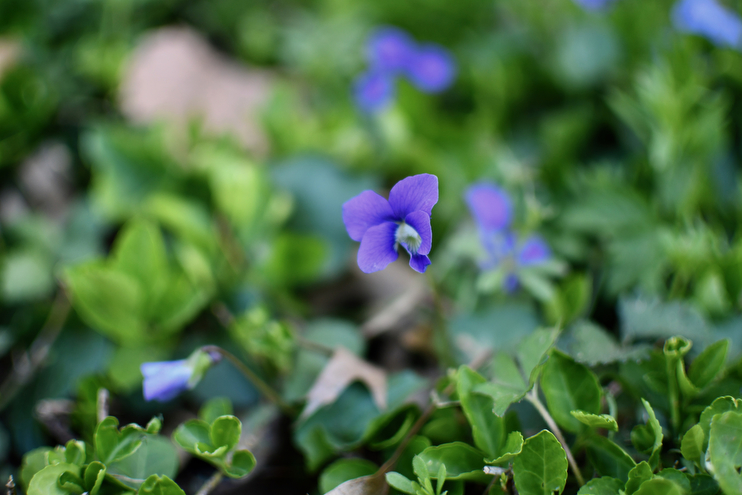violet: (342, 171, 443, 281)
